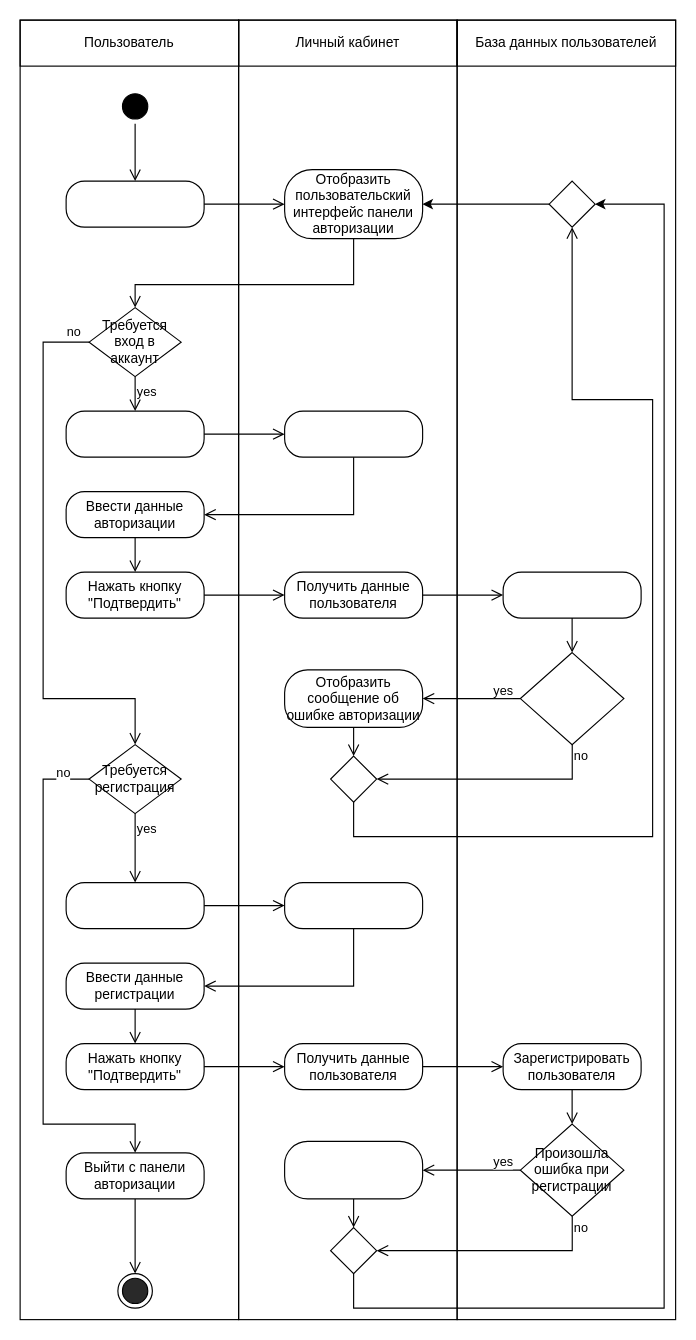
Image size: 696x1340. Some labels were removed from this diagram. Each missing label, with the centre of its shape:
Авторизовать пользователя: the point at 571,594
Нажать на кнопку "Войти": the point at 134,433
Нажать на кнопку "Зарегистрироваться": the point at 134,905
Отобразить сообщение об ошибке регистрации: the point at 353,1169
Отобразить форму авторизации: the point at 353,433
Отобразить форму регистрации: the point at 353,905
Перейти на панель авторизации: the point at 134,203
Произошла ошибка при авторизации: the point at 571,698
